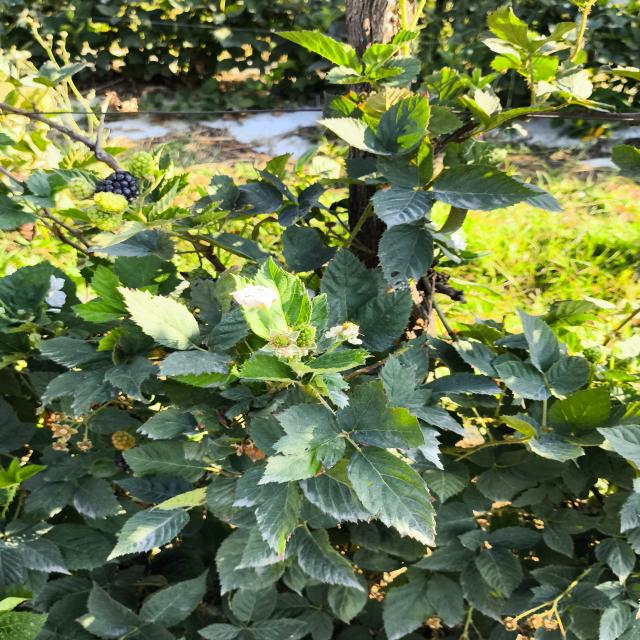flor: (232, 284, 279, 308)
maduro: (95, 171, 139, 203)
verde: (130, 151, 156, 180), (87, 210, 122, 231), (94, 192, 128, 213), (67, 177, 94, 199), (294, 324, 316, 347)
